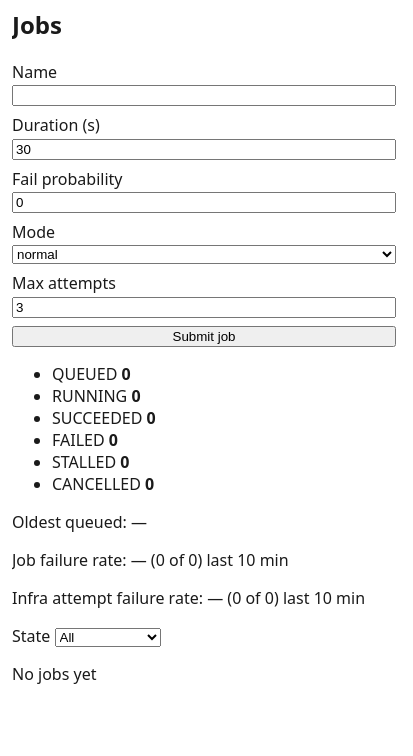
JobsPage submit wiring › sends no extra GETs after a rejected submit
The image size is (413, 756).
Type "fresh" into the field labelled "Name" at (204, 96), box [12,85,396,106]
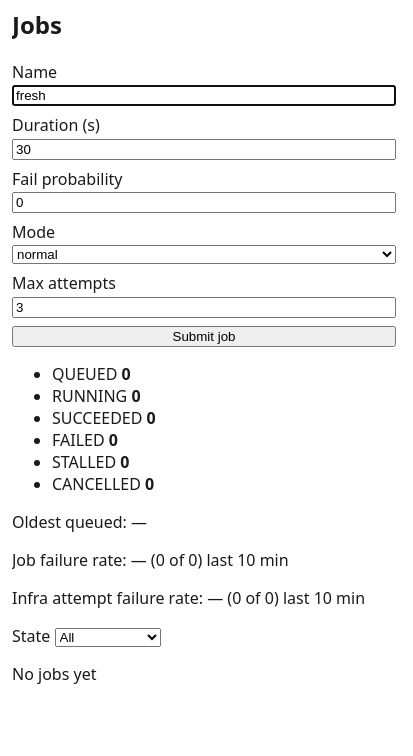
Click the button "Submit job" at (204, 336), box [12,326,396,347]
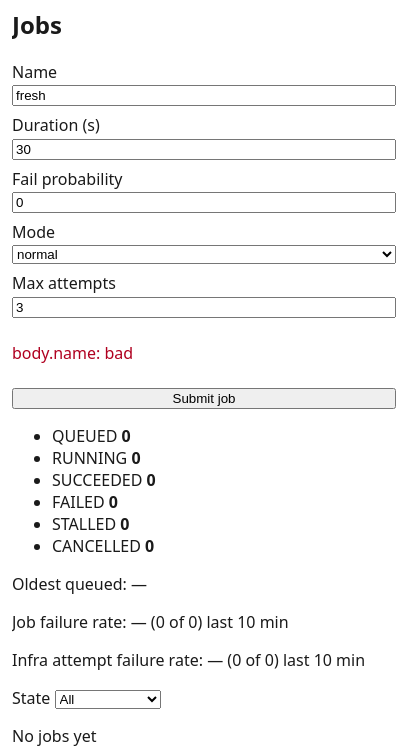
Result: the text "body.name: bad" is shown at [12,342,133,364]
